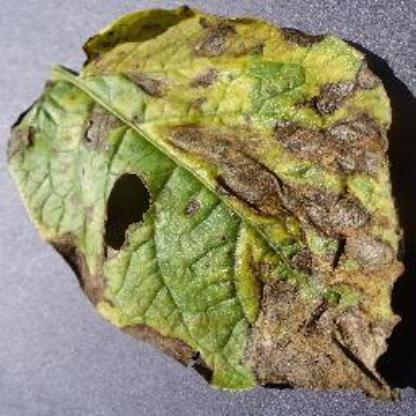Early-Blight: (7, 5, 411, 400)
